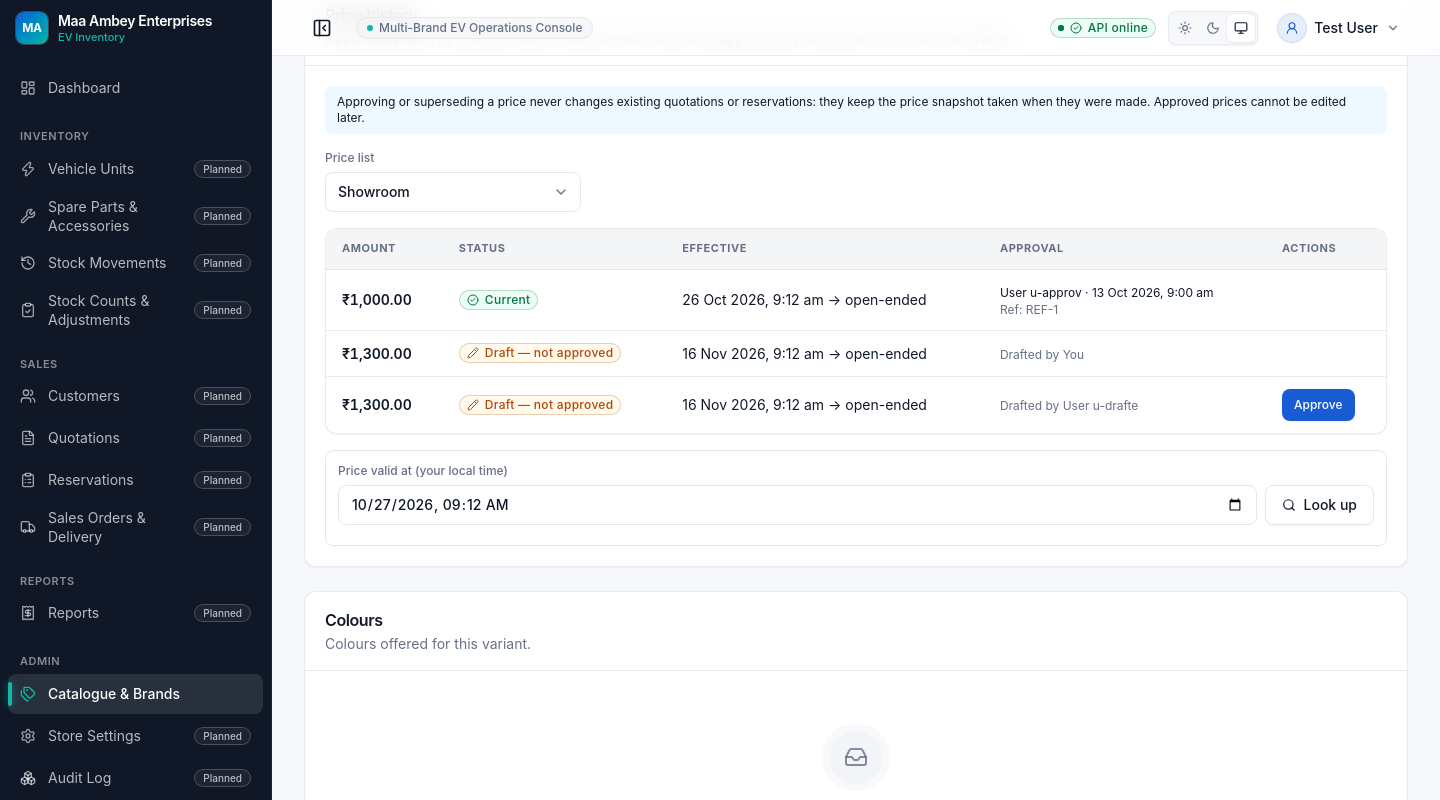
Test: variant price history › offers approval only of other people’s drafts and explains server refusals
(page scrolled)
Click the button "Approve".
click(1318, 405)  # box [1282,389,1354,421]
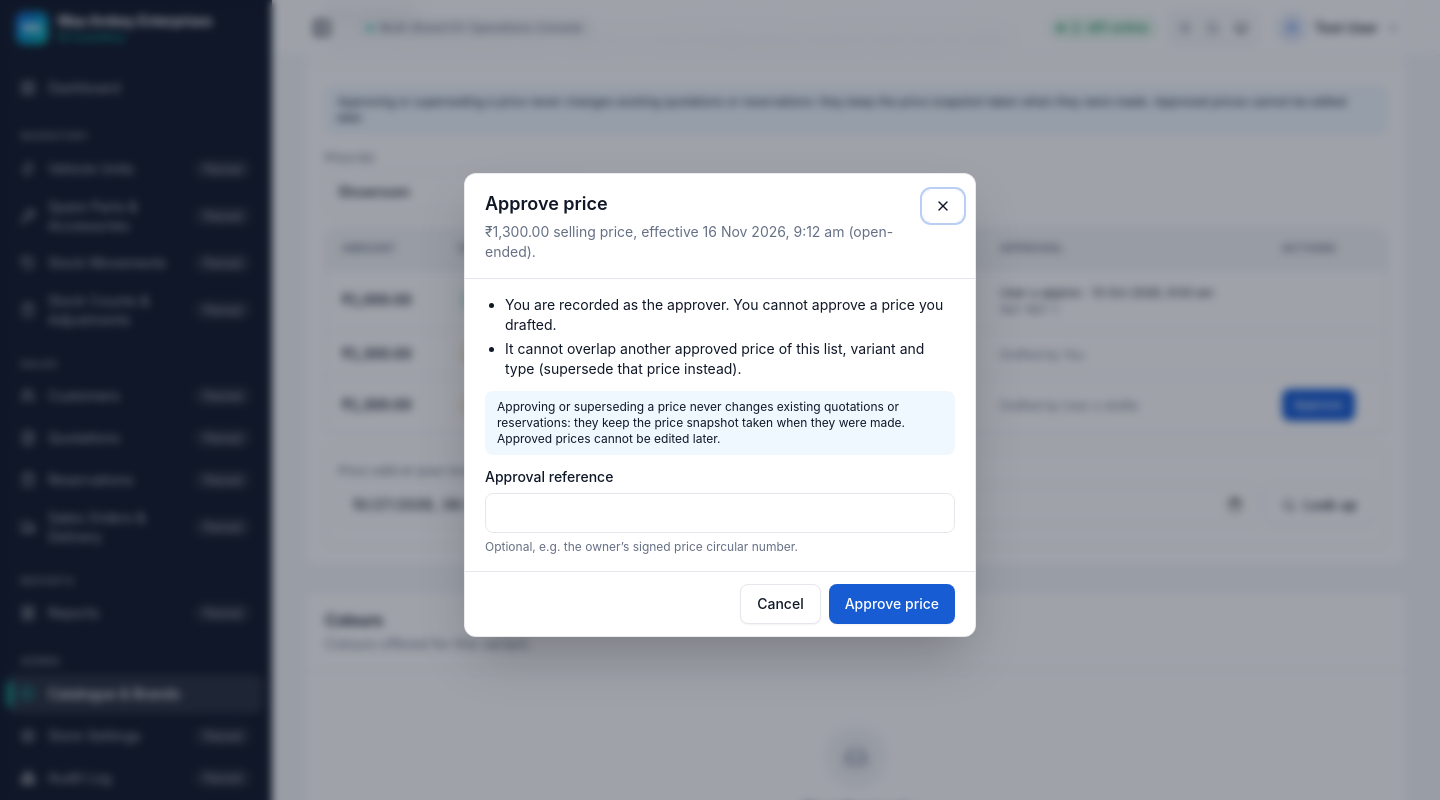
Expected: the list item "cannot approve a price you drafted" is shown, [505,296,943,333]
Click the button "Approve price".
click(892, 604)  # box [829,584,955,624]
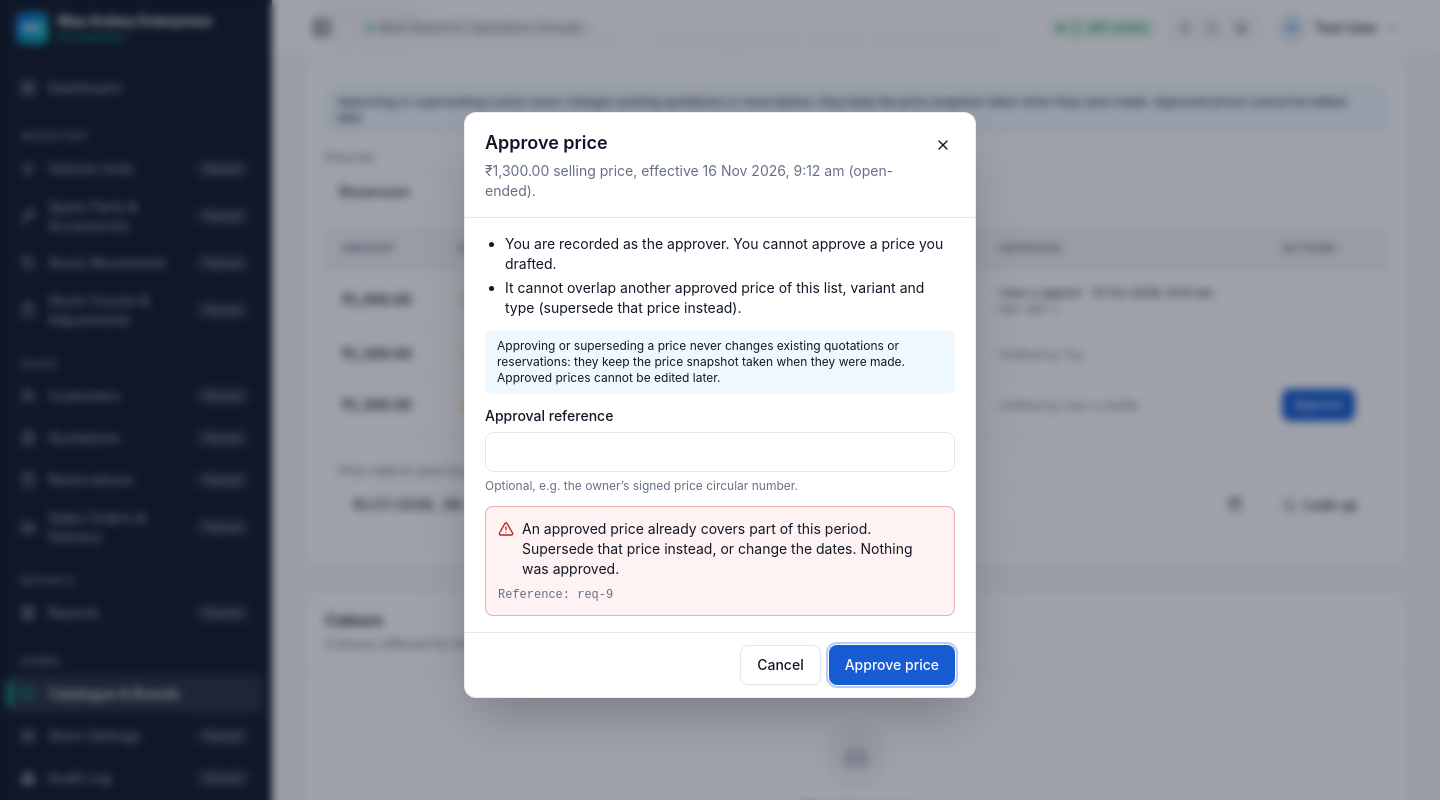
Expected: the text "already covers part of this period" is shown, [522,520,912,577]
